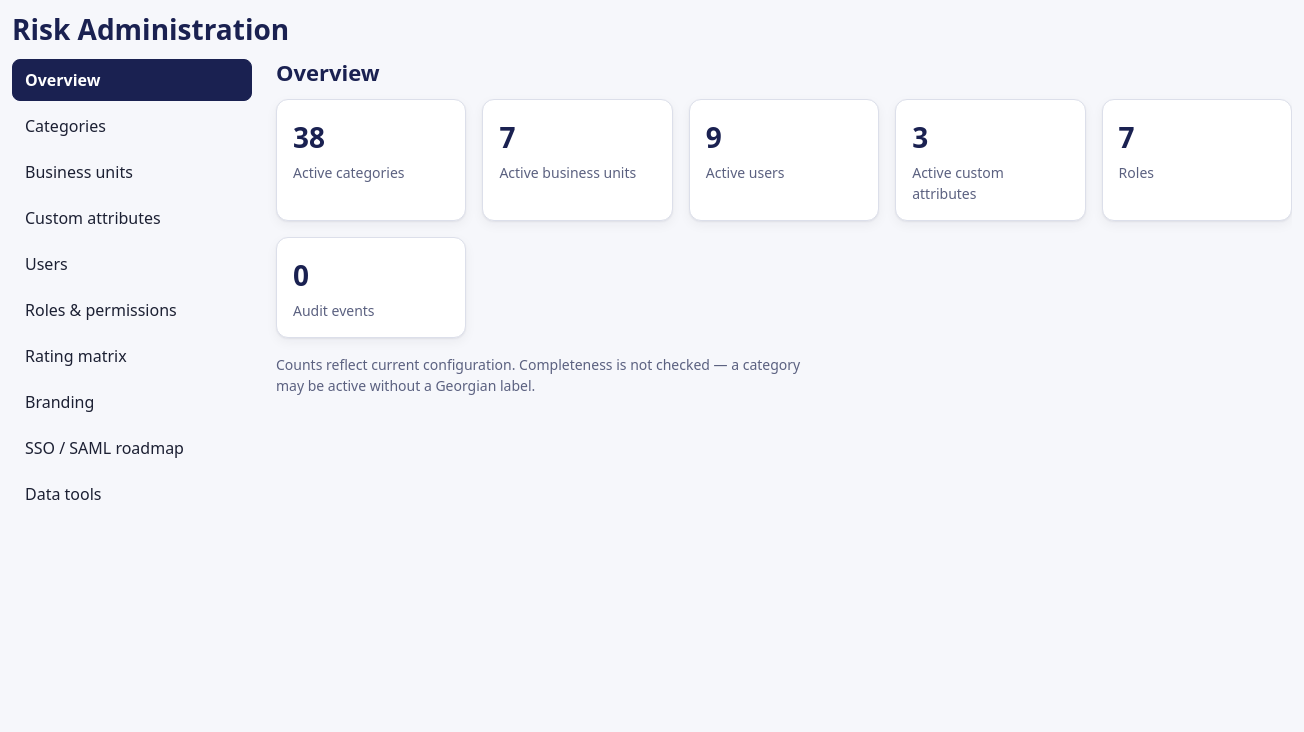
Test: business units › renders the tree with hierarchy path and the three counts
Click the button "Business units" at point(132, 172), box [12,151,252,193]
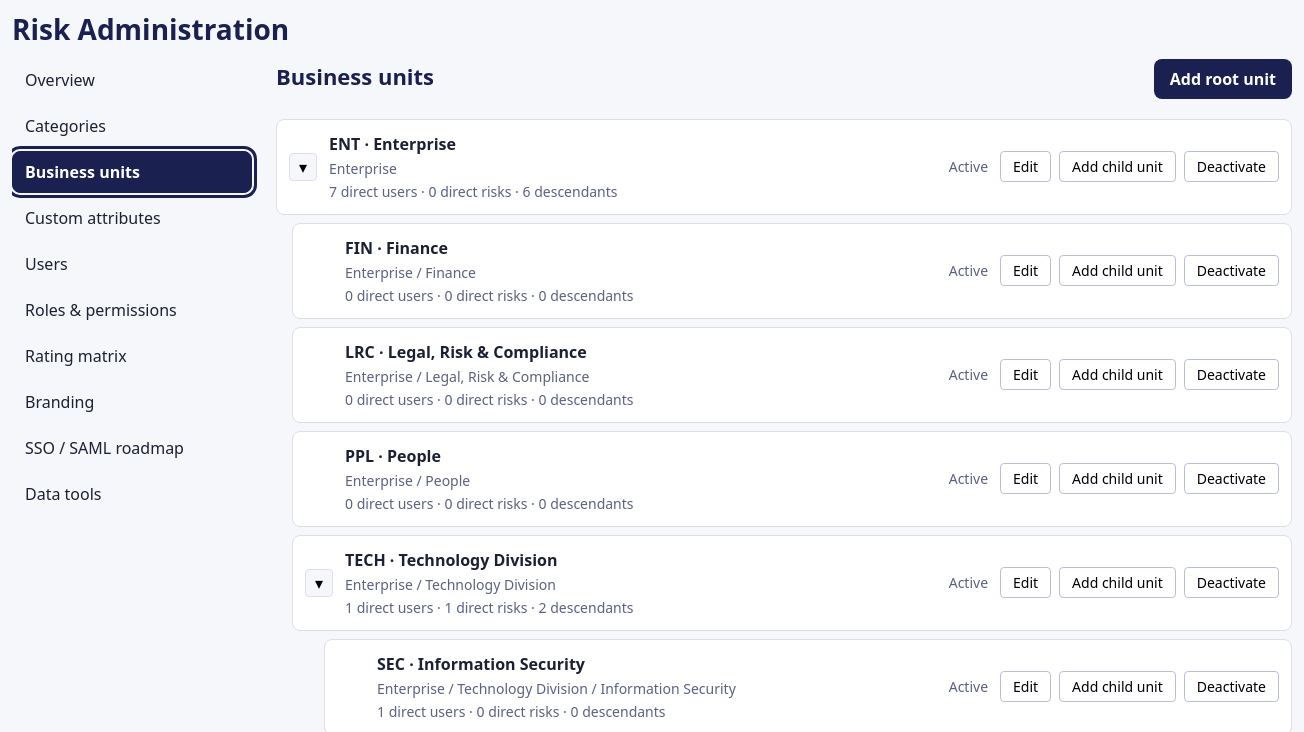
Check: the text "Enterprise / Technology Division" is shown, box [345,574,556,594]
Check: the text "1 direct users · 1 direct risks · 2 descendants" is shown, box [345,598,634,616]
